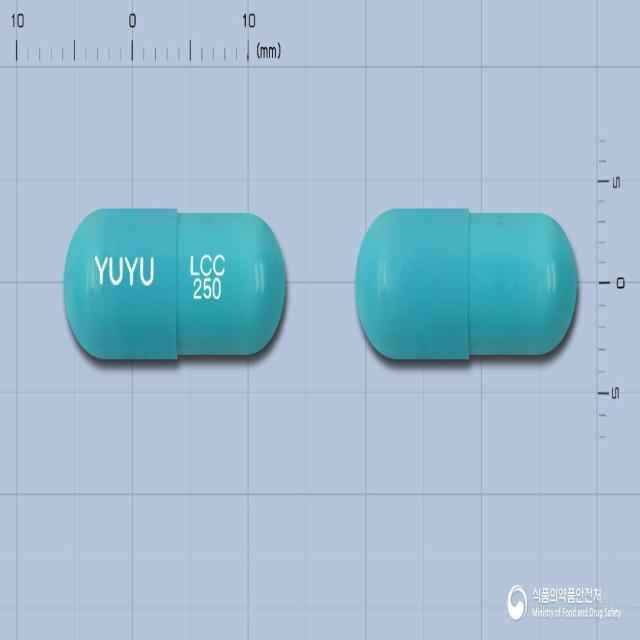Lincocin: (64, 208, 288, 360)
